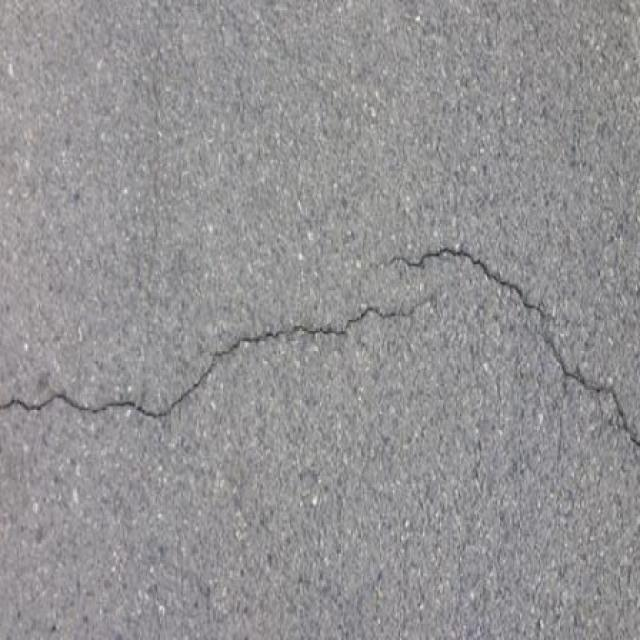Diagonal Crack: (342, 243, 640, 454), (0, 291, 434, 424)
